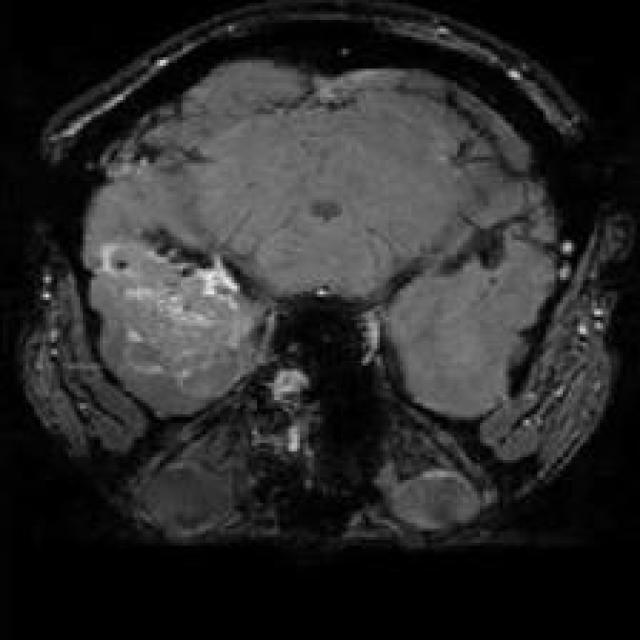glioma_tumor: (80, 235, 284, 408)
